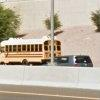Bus: (1, 35, 61, 69)
